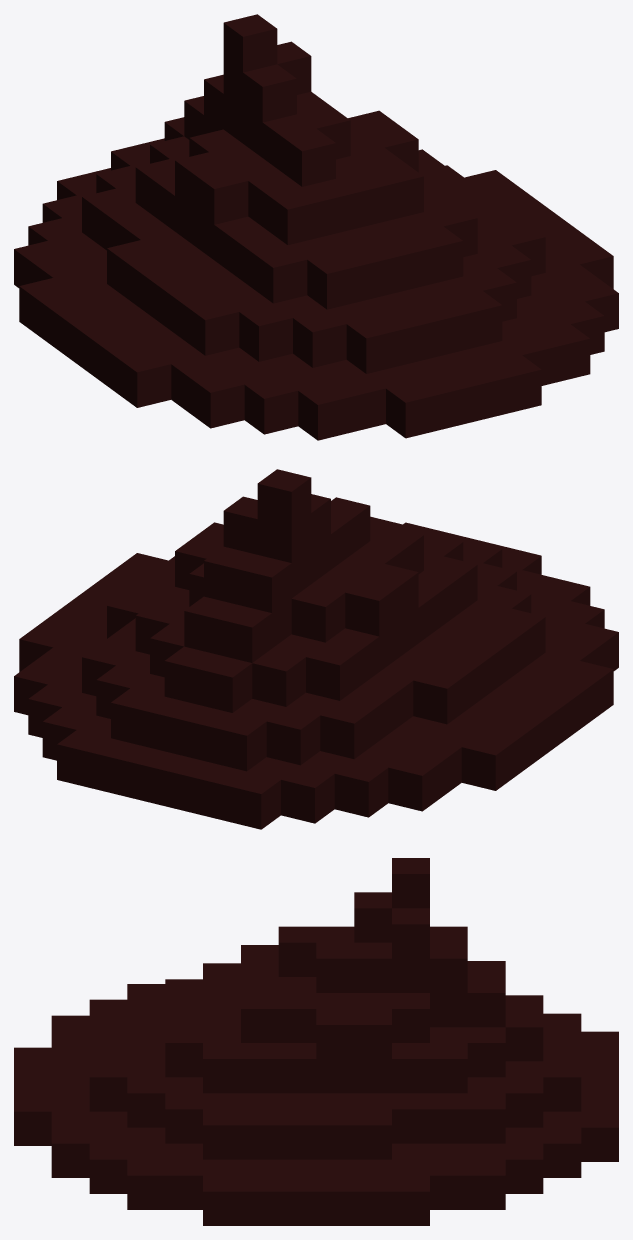
The model's file is Wanda's Hat.obj.
3 renders of one model, top to bottom at view 1: azimuth 30°, elevation 25°; view 2: azimuth 150°, elevation 25°; view 3: azimuth 270°, elevation 25°, orthographic. The views are drawn at different scales.
Size of the model in its own units: 1.4 by 0.7 by 1.6.
Materials: 1 (1 with a texture image).
